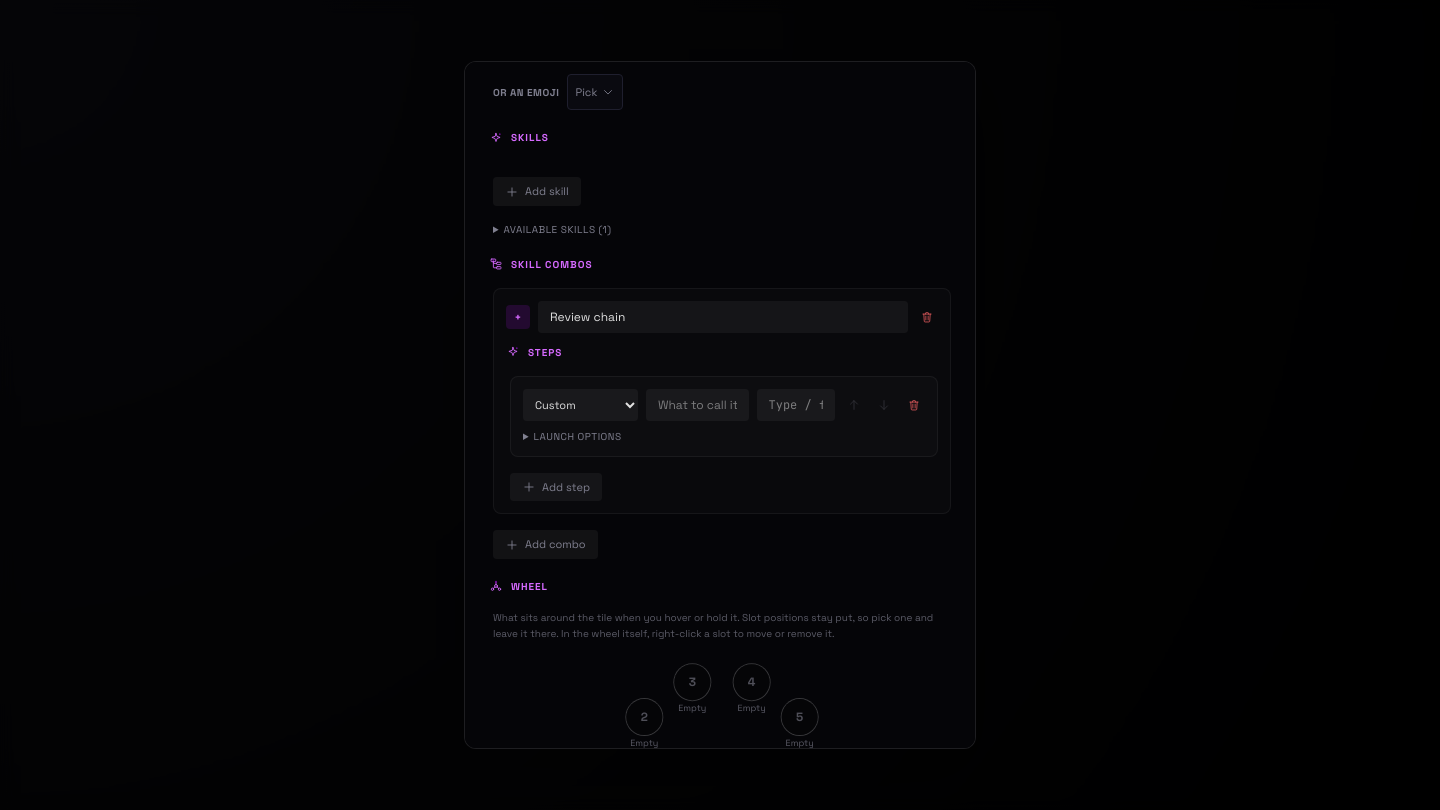
Test: QuickAccessSettingsDialog › skills › offers global Auric skills inside combo steps too
(page scrolled)
Select "Code Review" in the dropdown named "Combo 1 step 1 saved skill" at (580, 405), box [523,389,638,421]
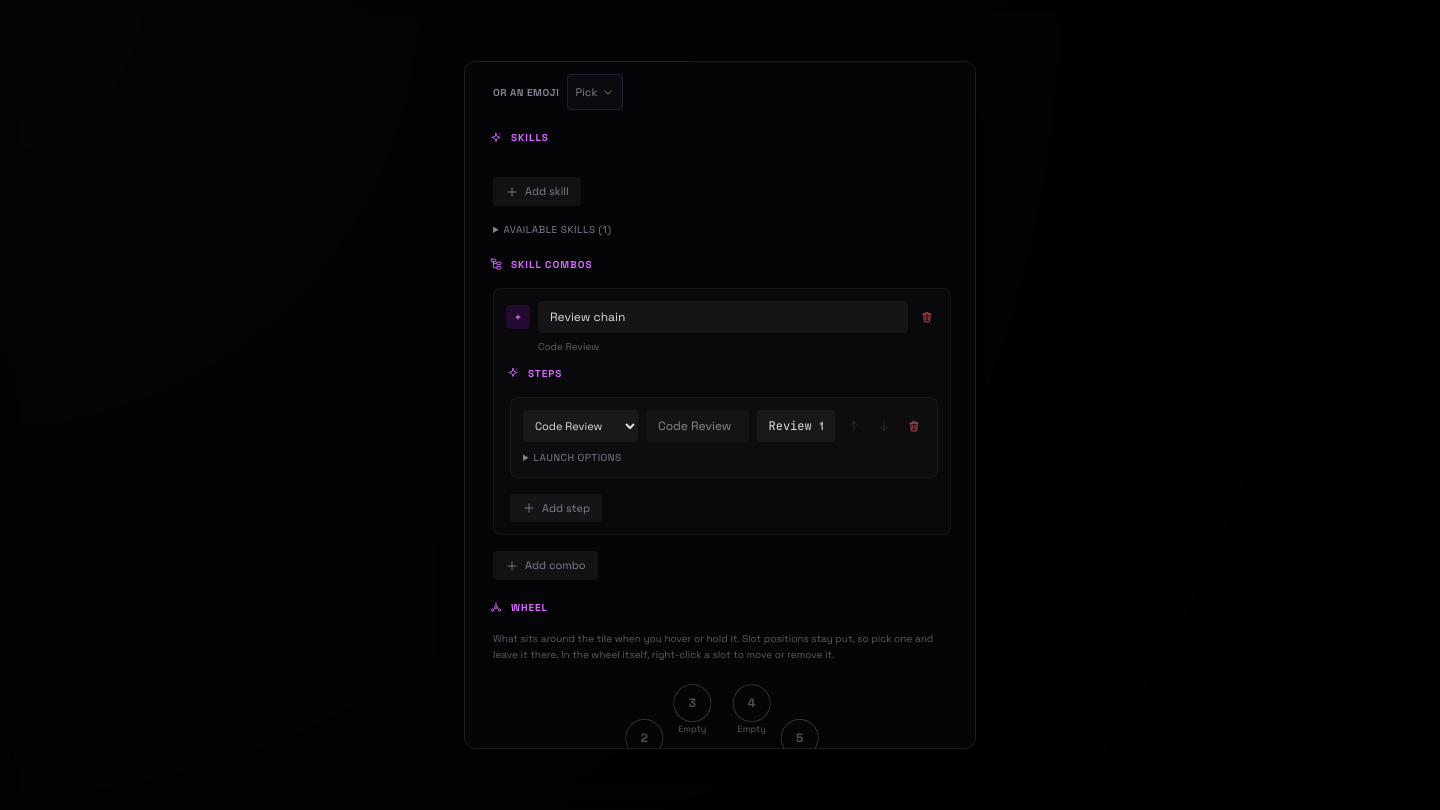
Now the field named "Combo 1 step 1 name" holds "Code Review", box [646,410,748,442]
Now the dropdown named "Combo 1 step 1 prompt" holds "Review the change.", box [756,410,835,442]
